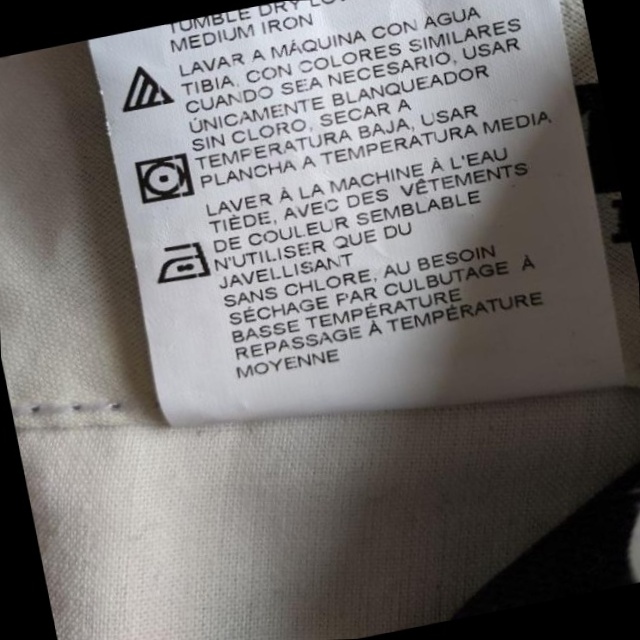iron_medium: (153, 234, 216, 287)
non_chlorine_bleach: (113, 55, 180, 122)
tumble_dry_low: (127, 147, 199, 209)
